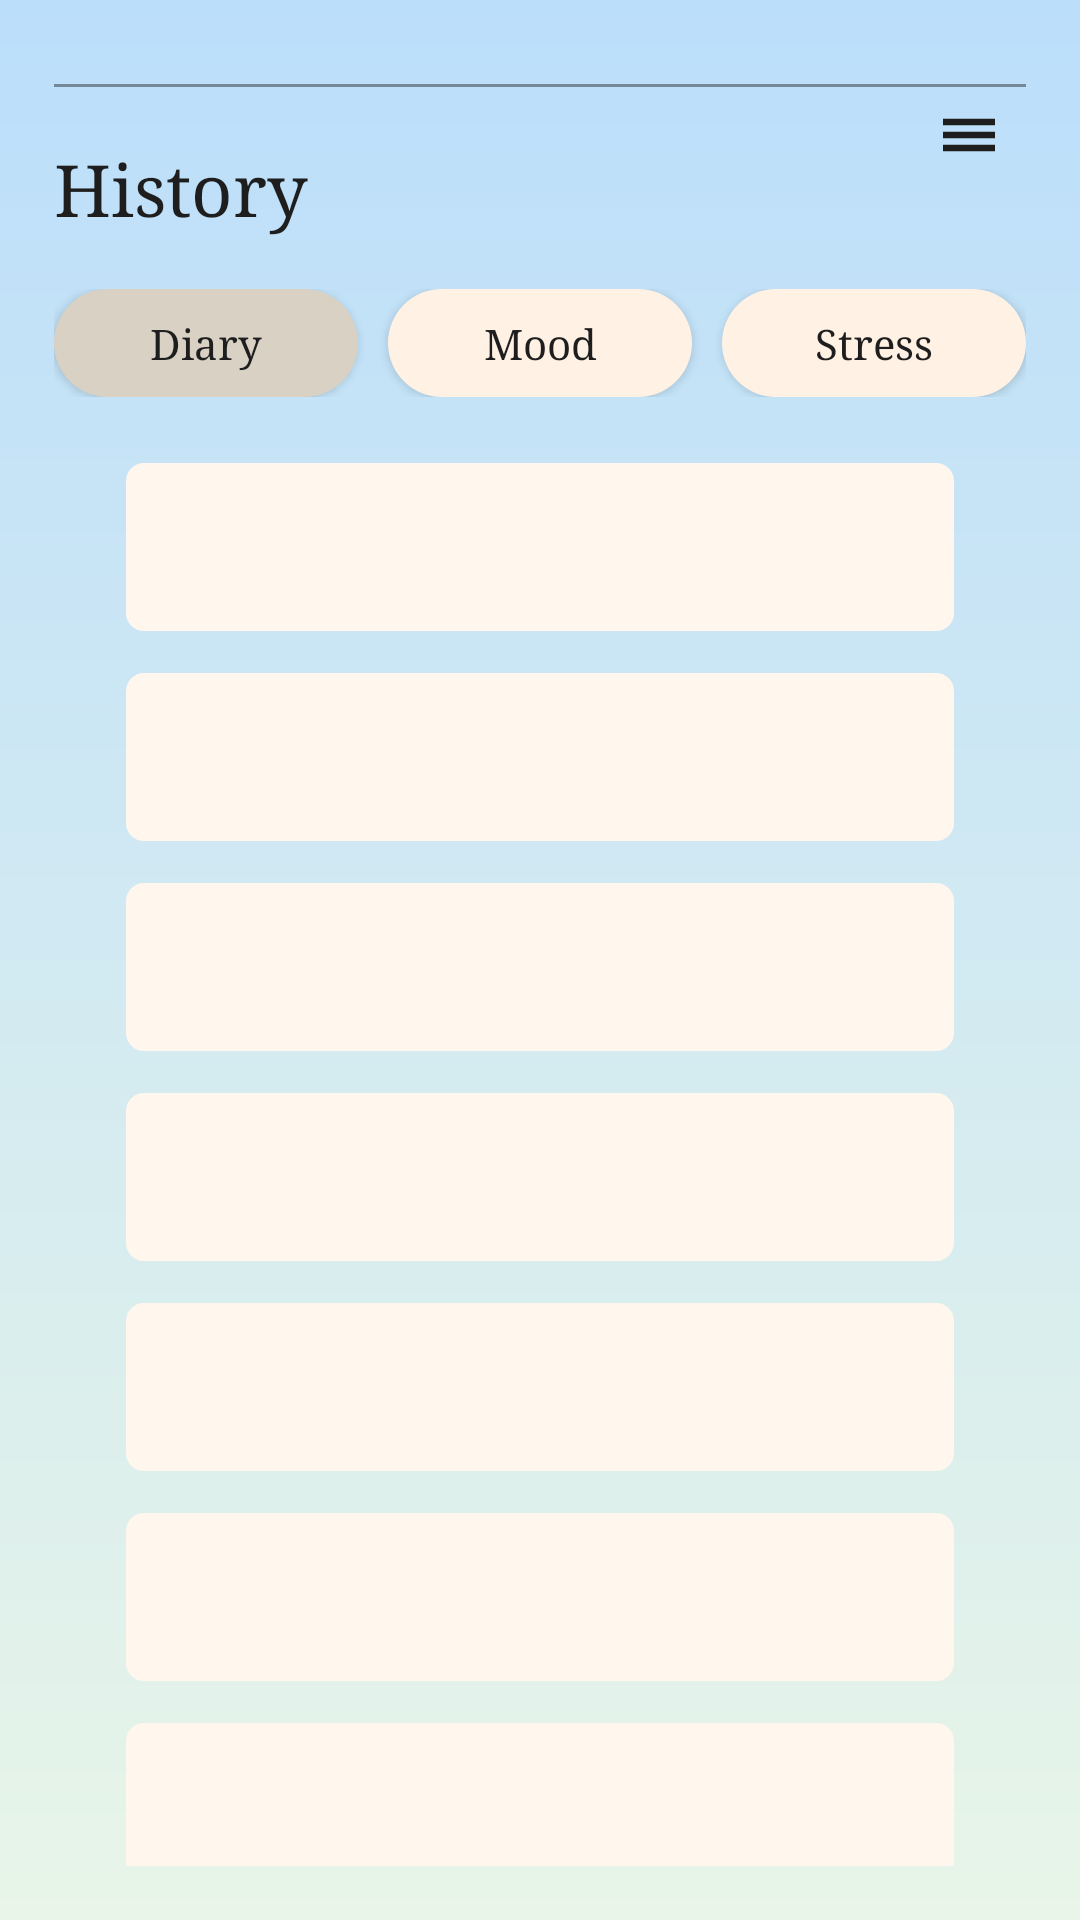

Screen size 1080*1920. Icon name, then its box in pixels as bbox(x1, y1, x2, y2):
Menu: bbox(943, 118, 995, 152)
